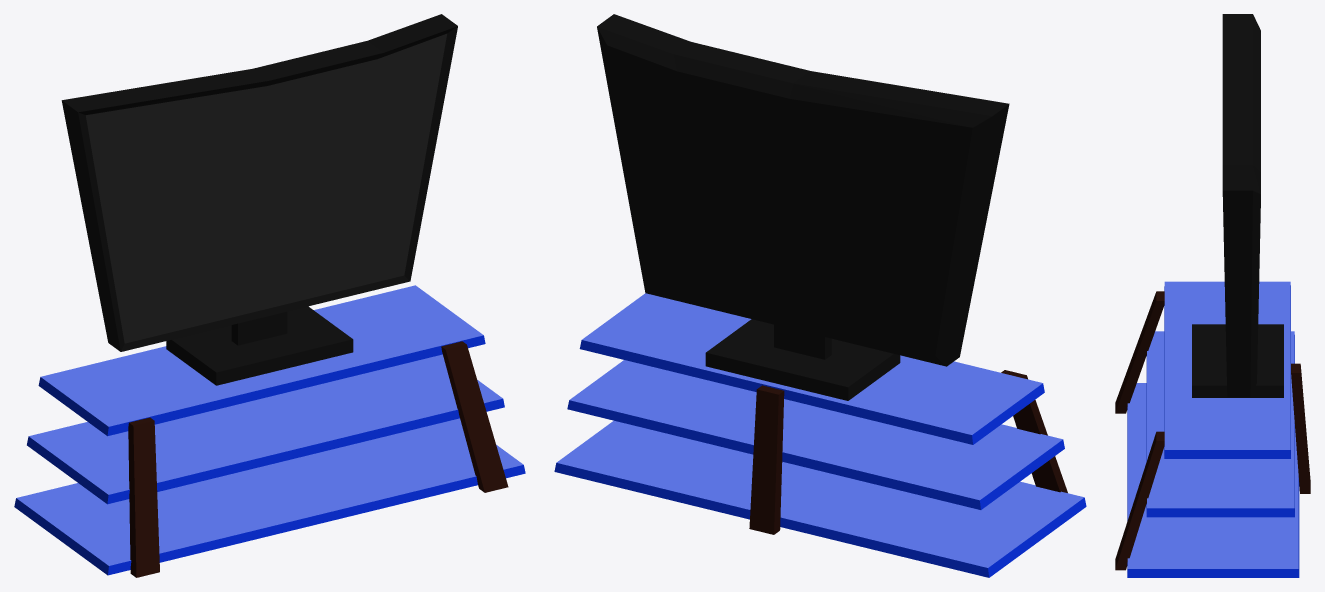
File: House_LivingRoom_EntertainmentCenter.FBX
3 views of the same model, side by side, from view 1: azimuth 30°, elevation 25°; view 2: azimuth 150°, elevation 25°; view 3: azimuth 270°, elevation 25° (orthographic). The views are drawn at different scales.
Visible parts, largest first — view 1: House_LivingRoom_EntertainmentCenter_TV_chunkLeft, House_LivingRoom_EntertainmentCenter_Stand_shelfBottom, House_LivingRoom_EntertainmentCenter_TV_chunkCenter, House_LivingRoom_EntertainmentCenter_Stand_shelfMiddle, House_LivingRoom_EntertainmentCenter_TV_chunkRight, House_LivingRoom_EntertainmentCenter_Stand_shelfTop, House_LivingRoom_EntertainmentCenter_TV_base, House_LivingRoom_EntertainmentCenter_Stand_supportLeft, House_LivingRoom_EntertainmentCenter_Stand_supportRight, House_LivingRoom_EntertainmentCenter_TV_pivot; view 2: House_LivingRoom_EntertainmentCenter_TV_chunkLeft, House_LivingRoom_EntertainmentCenter_TV_chunkCenter, House_LivingRoom_EntertainmentCenter_Stand_shelfBottom, House_LivingRoom_EntertainmentCenter_Stand_shelfMiddle, House_LivingRoom_EntertainmentCenter_TV_chunkRight, House_LivingRoom_EntertainmentCenter_Stand_shelfTop, House_LivingRoom_EntertainmentCenter_TV_base, House_LivingRoom_EntertainmentCenter_Stand_supportBack, House_LivingRoom_EntertainmentCenter_Stand_supportLeft, House_LivingRoom_EntertainmentCenter_TV_pivot; view 3: House_LivingRoom_EntertainmentCenter_Stand_shelfTop, House_LivingRoom_EntertainmentCenter_Stand_shelfBottom, House_LivingRoom_EntertainmentCenter_Stand_shelfMiddle, House_LivingRoom_EntertainmentCenter_TV_chunkRight, House_LivingRoom_EntertainmentCenter_TV_base, House_LivingRoom_EntertainmentCenter_TV_chunkLeft, House_LivingRoom_EntertainmentCenter_TV_chunkCenter, House_LivingRoom_EntertainmentCenter_Stand_supportRight, House_LivingRoom_EntertainmentCenter_Stand_supportLeft, House_LivingRoom_EntertainmentCenter_Stand_supportBack.
Part boxes in pixels (bbox=[...]): House_LivingRoom_EntertainmentCenter_TV_chunkLeft: bbox=[61, 69, 268, 351]; House_LivingRoom_EntertainmentCenter_Stand_shelfBottom: bbox=[14, 418, 525, 575]; House_LivingRoom_EntertainmentCenter_TV_chunkCenter: bbox=[202, 41, 383, 331]; House_LivingRoom_EntertainmentCenter_Stand_shelfMiddle: bbox=[27, 354, 504, 504]; House_LivingRoom_EntertainmentCenter_TV_chunkRight: bbox=[319, 14, 457, 302]; House_LivingRoom_EntertainmentCenter_Stand_shelfTop: bbox=[38, 285, 485, 436]; House_LivingRoom_EntertainmentCenter_TV_base: bbox=[166, 306, 353, 385]; House_LivingRoom_EntertainmentCenter_Stand_supportLeft: bbox=[128, 417, 159, 577]; House_LivingRoom_EntertainmentCenter_Stand_supportRight: bbox=[441, 341, 508, 492]; House_LivingRoom_EntertainmentCenter_TV_pivot: bbox=[231, 311, 287, 345]; House_LivingRoom_EntertainmentCenter_TV_chunkLeft: bbox=[789, 71, 1009, 366]; House_LivingRoom_EntertainmentCenter_TV_chunkCenter: bbox=[674, 42, 860, 345]; House_LivingRoom_EntertainmentCenter_Stand_shelfBottom: bbox=[554, 420, 1086, 577]; House_LivingRoom_EntertainmentCenter_Stand_shelfMiddle: bbox=[567, 360, 1064, 509]; House_LivingRoom_EntertainmentCenter_TV_chunkRight: bbox=[597, 14, 737, 315]; House_LivingRoom_EntertainmentCenter_Stand_shelfTop: bbox=[579, 293, 1044, 444]; House_LivingRoom_EntertainmentCenter_TV_base: bbox=[705, 319, 900, 400]; House_LivingRoom_EntertainmentCenter_Stand_supportBack: bbox=[749, 385, 784, 534]; House_LivingRoom_EntertainmentCenter_Stand_supportLeft: bbox=[1001, 370, 1067, 492]; House_LivingRoom_EntertainmentCenter_TV_pivot: bbox=[774, 324, 831, 359]; House_LivingRoom_EntertainmentCenter_Stand_shelfTop: bbox=[1164, 281, 1290, 458]; House_LivingRoom_EntertainmentCenter_Stand_shelfBottom: bbox=[1127, 383, 1299, 577]; House_LivingRoom_EntertainmentCenter_Stand_shelfMiddle: bbox=[1146, 331, 1294, 517]; House_LivingRoom_EntertainmentCenter_TV_chunkRight: bbox=[1222, 165, 1260, 396]; House_LivingRoom_EntertainmentCenter_TV_base: bbox=[1192, 324, 1283, 397]; House_LivingRoom_EntertainmentCenter_TV_chunkLeft: bbox=[1222, 14, 1260, 123]; House_LivingRoom_EntertainmentCenter_TV_chunkCenter: bbox=[1222, 113, 1260, 171]; House_LivingRoom_EntertainmentCenter_Stand_supportRight: bbox=[1115, 431, 1164, 570]; House_LivingRoom_EntertainmentCenter_Stand_supportLeft: bbox=[1115, 291, 1164, 413]; House_LivingRoom_EntertainmentCenter_Stand_supportBack: bbox=[1291, 363, 1310, 493].
Size of the model in its own units: 362 by 350 by 159.
